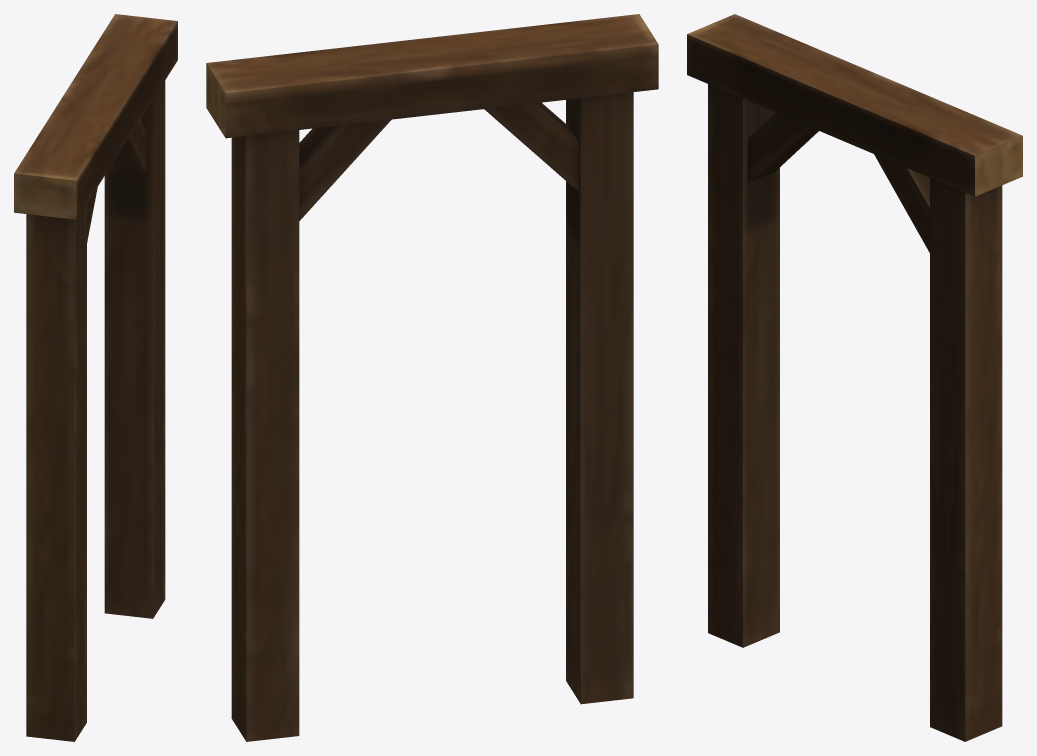
Rendered from Wagon_beam1.fbx.
3 views of the same model, side by side, from view 1: azimuth 30°, elevation 25°; view 2: azimuth 150°, elevation 25°; view 3: azimuth 270°, elevation 25° (orthographic). The views are drawn at different scales.
Visible parts, largest first — view 1: Wagon_beam1; view 2: Wagon_beam1; view 3: Wagon_beam1.
Part boxes in pixels (box(x1,y1,x2,y2)): Wagon_beam1: box(14, 14, 177, 741); Wagon_beam1: box(206, 14, 658, 741); Wagon_beam1: box(687, 14, 1022, 741).
Size of the model in its own units: 151 by 296 by 151.
Materials: 1 (1 with a texture image).
